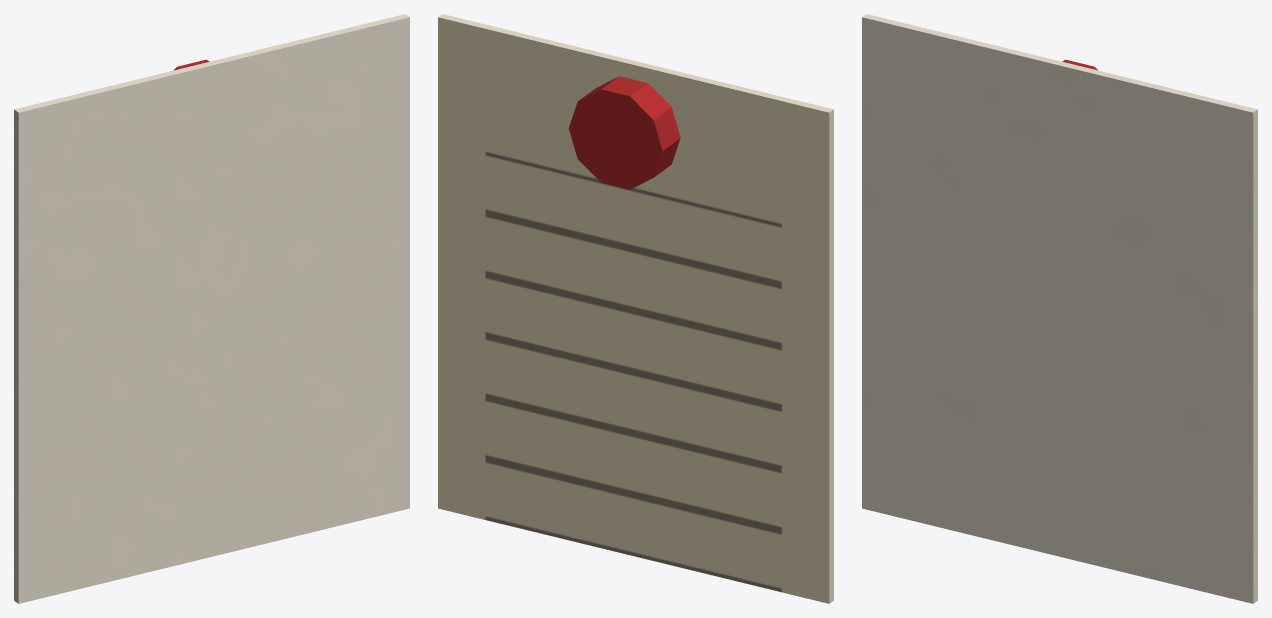
Rendered from SM_Note_Paper.fbx.
3 renders of one model, left to right at view 1: azimuth 30°, elevation 25°; view 2: azimuth 150°, elevation 25°; view 3: azimuth 330°, elevation 25°, orthographic.
Visible parts, largest first — view 1: SM_Note_Paper; view 2: SM_Note_Paper; view 3: SM_Note_Paper.
Boxes of the visible parts, x1=… form: SM_Note_Paper: x1=14, y1=14, x2=409, y2=603; SM_Note_Paper: x1=438, y1=14, x2=833, y2=603; SM_Note_Paper: x1=862, y1=14, x2=1257, y2=603.
Bounding box in the file's own units: 0.1 × 0.12 × 0.01.
Materials: 3 (3 with a texture image).
